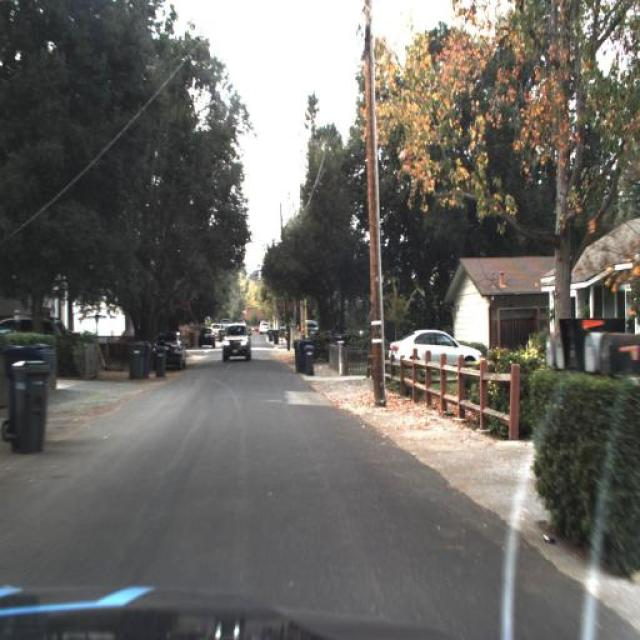car: (388, 322, 489, 372), (220, 318, 256, 362), (153, 330, 191, 371), (195, 325, 215, 349), (298, 318, 318, 342), (257, 319, 269, 336)
